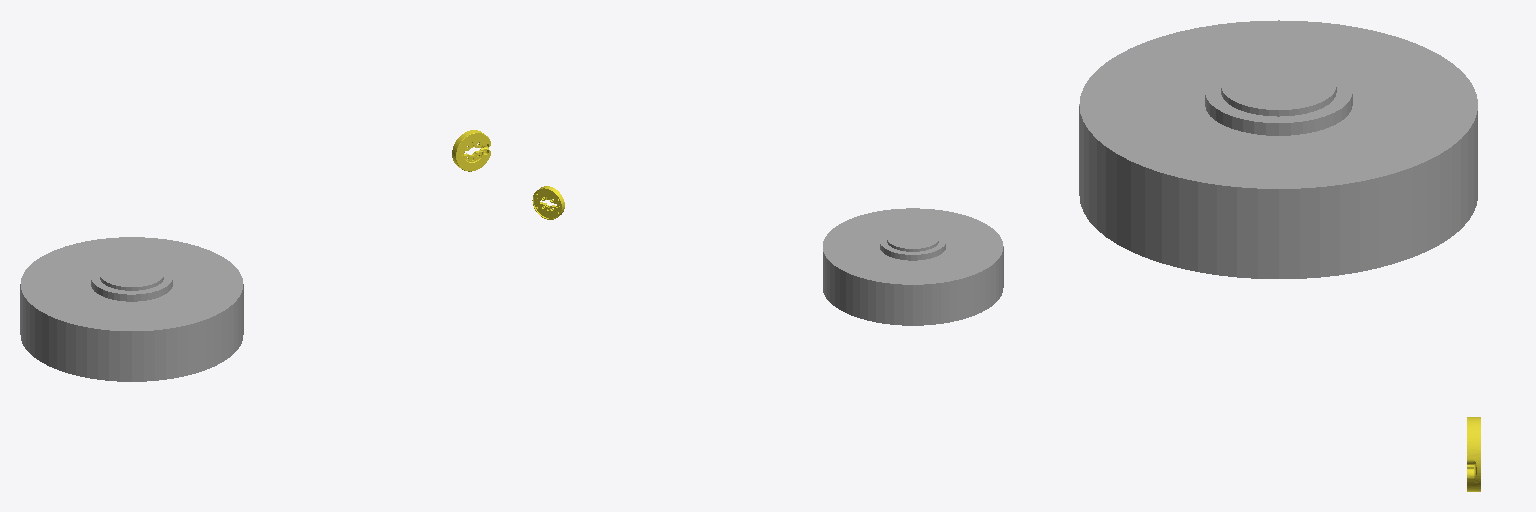
The robot description file, URDF, robot "ur5":
<?xml version="1.0" ?>
<!-- =================================================================================== -->
<!-- |    This document was autogenerated by xacro from ur5.urdf.xacro                 | -->
<!-- |    EDITING THIS FILE BY HAND IS NOT RECOMMENDED                                 | -->
<!-- =================================================================================== -->
<robot name="ur5">
  <gazebo>
    <plugin filename="libgazebo_ros_control.so" name="ros_control">
      <!--robotNamespace>/</robotNamespace-->
      <!--robotSimType>gazebo_ros_control/DefaultRobotHWSim</robotSimType-->
    </plugin>
    <!--
    <plugin name="gazebo_ros_power_monitor_controller" filename="libgazebo_ros_power_monitor.so">
      <alwaysOn>true</alwaysOn>
      <updateRate>1.0</updateRate>
      <timeout>5</timeout>
      <powerStateTopic>power_state</powerStateTopic>
      <powerStateRate>10.0</powerStateRate>
      <fullChargeCapacity>87.78</fullChargeCapacity>     
      <dischargeRate>-474</dischargeRate>
      <chargeRate>525</chargeRate>
      <dischargeVoltage>15.52</dischargeVoltage>
      <chargeVoltage>16.41</chargeVoltage>
    </plugin>
-->
  </gazebo>
  <!-- measured from model -->
  <!--property name="shoulder_height" value="0.089159" /-->
  <!--property name="shoulder_offset" value="0.13585" /-->
  <!-- shoulder_offset - elbow_offset + wrist_1_length = 0.10915 -->
  <!--property name="upper_arm_length" value="0.42500" /-->
  <!--property name="elbow_offset" value="0.1197" /-->
  <!-- CAD measured -->
  <!--property name="forearm_length" value="0.39225" /-->
  <!--property name="wrist_1_length" value="0.093" /-->
  <!-- CAD measured -->
  <!--property name="wrist_2_length" value="0.09465" /-->
  <!-- In CAD this distance is 0.930, but in the spec it is 0.09465 -->
  <!--property name="wrist_3_length" value="0.0823" /-->
  <!-- manually measured -->
  <link name="base_link">
    <visual>
      <geometry>
        <mesh filename="package://robot_description/meshes/ur5/visual/base.dae"/>
      </geometry>
      <material name="LightGrey">
        <color rgba="0.7 0.7 0.7 1.0"/>
      </material>
    </visual>
    <collision>
      <geometry>
        <mesh filename="package://robot_description/meshes/ur5/collision/base.stl"/>
      </geometry>
    </collision>
    <inertial>
      <mass value="40.0"/>
      <origin rpy="0 0 0" xyz="0.0 0.0 0.0"/>
      <inertia ixx="0.17499993000000003" ixy="0.0" ixz="0.0" iyy="0.17499993000000003" iyz="0.0" izz="0.2"/>
    </inertial>
  </link>
  <joint name="shoulder_pan_joint" type="revolute">
    <parent link="base_link"/>
    <child link="shoulder_link"/>
    <origin rpy="0.0 0.0 0.0" xyz="0.0 0.0 0.089159"/>
    <axis xyz="0 0 1"/>
    <limit effort="150.0" lower="-3.141592653589793" upper="3.141592653589793" velocity="3.15"/>
    <dynamics damping="0.0" friction="0.0"/>
  </joint>
  <link name="shoulder_link">
    <visual>
      <geometry>
        <mesh filename="package://robot_description/meshes/ur5/visual/shoulder.dae"/>
      </geometry>
      <material name="LightGrey">
        <color rgba="0.7 0.7 0.7 1.0"/>
      </material>
    </visual>
    <collision>
      <geometry>
        <mesh filename="package://robot_description/meshes/ur5/collision/shoulder.stl"/>
      </geometry>
    </collision>
    <inertial>
      <mass value="3.7"/>
      <origin rpy="0 0 0" xyz="0.0 0.0 0.0"/>
      <inertia ixx="0.010267495893" ixy="0.0" ixz="0.0" iyy="0.010267495893" iyz="0.0" izz="0.00666"/>
    </inertial>
  </link>
  <joint name="shoulder_lift_joint" type="revolute">
    <parent link="shoulder_link"/>
    <child link="upper_arm_link"/>
    <origin rpy="0.0 1.5707963267948966 0.0" xyz="0.0 0.13585 0.0"/>
    <axis xyz="0 1 0"/>
    <limit effort="150.0" lower="-3.141592653589793" upper="3.141592653589793" velocity="3.15"/>
    <dynamics damping="0.0" friction="0.0"/>
  </joint>
  <link name="upper_arm_link">
    <visual>
      <geometry>
        <mesh filename="package://robot_description/meshes/ur5/visual/upperarm.dae"/>
      </geometry>
      <material name="LightGrey">
        <color rgba="0.7 0.7 0.7 1.0"/>
      </material>
    </visual>
    <collision>
      <geometry>
        <mesh filename="package://robot_description/meshes/ur5/collision/upperarm.stl"/>
      </geometry>
    </collision>
    <inertial>
      <mass value="8.393"/>
      <origin rpy="0 0 0" xyz="0.0 0.0 0.28"/>
      <inertia ixx="0.22689067591036005" ixy="0.0" ixz="0.0" iyy="0.22689067591036005" iyz="0.0" izz="0.0151074"/>
    </inertial>
  </link>
  <joint name="elbow_joint" type="revolute">
    <parent link="upper_arm_link"/>
    <child link="forearm_link"/>
    <origin rpy="0.0 0.0 0.0" xyz="0.0 -0.1197 0.425"/>
    <axis xyz="0 1 0"/>
    <limit effort="150.0" lower="-3.141592653589793" upper="3.141592653589793" velocity="3.15"/>
    <dynamics damping="0.0" friction="0.0"/>
  </joint>
  <link name="forearm_link">
    <visual>
      <geometry>
        <mesh filename="package://robot_description/meshes/ur5/visual/forearm.dae"/>
      </geometry>
      <material name="LightGrey">
        <color rgba="0.7 0.7 0.7 1.0"/>
      </material>
    </visual>
    <collision>
      <geometry>
        <mesh filename="package://robot_description/meshes/ur5/collision/forearm.stl"/>
      </geometry>
    </collision>
    <inertial>
      <mass value="2.275"/>
      <origin rpy="0 0 0" xyz="0.0 0.0 0.25"/>
      <inertia ixx="0.04944331355599999" ixy="0.0" ixz="0.0" iyy="0.04944331355599999" iyz="0.0" izz="0.004095"/>
    </inertial>
  </link>
  <joint name="wrist_1_joint" type="revolute">
    <parent link="forearm_link"/>
    <child link="wrist_1_link"/>
    <origin rpy="0.0 1.5707963267948966 0.0" xyz="0.0 0.0 0.39225"/>
    <axis xyz="0 1 0"/>
    <limit effort="28.0" lower="-3.141592653589793" upper="3.141592653589793" velocity="3.2"/>
    <dynamics damping="0.0" friction="0.0"/>
  </joint>
  <link name="wrist_1_link">
    <visual>
      <geometry>
        <mesh filename="package://robot_description/meshes/ur5/visual/wrist1.dae"/>
      </geometry>
      <material name="LightGrey">
        <color rgba="0.7 0.7 0.7 1.0"/>
      </material>
    </visual>
    <collision>
      <geometry>
        <mesh filename="package://robot_description/meshes/ur5/collision/wrist1.stl"/>
      </geometry>
    </collision>
    <inertial>
      <mass value="1.219"/>
      <origin rpy="0 0 0" xyz="0.0 0.0 0.0"/>
      <inertia ixx="0.11117275553087999" ixy="0.0" ixz="0.0" iyy="0.11117275553087999" iyz="0.0" izz="0.21942"/>
    </inertial>
  </link>
  <joint name="wrist_2_joint" type="revolute">
    <parent link="wrist_1_link"/>
    <child link="wrist_2_link"/>
    <origin rpy="0.0 0.0 0.0" xyz="0.0 0.093 0.0"/>
    <axis xyz="0 0 1"/>
    <limit effort="28.0" lower="-3.141592653589793" upper="3.141592653589793" velocity="3.2"/>
    <dynamics damping="0.0" friction="0.0"/>
  </joint>
  <link name="wrist_2_link">
    <visual>
      <geometry>
        <mesh filename="package://robot_description/meshes/ur5/visual/wrist2.dae"/>
      </geometry>
      <material name="LightGrey">
        <color rgba="0.7 0.7 0.7 1.0"/>
      </material>
    </visual>
    <collision>
      <geometry>
        <mesh filename="package://robot_description/meshes/ur5/collision/wrist2.stl"/>
      </geometry>
    </collision>
    <inertial>
      <mass value="1.219"/>
      <origin rpy="0 0 0" xyz="0.0 0.0 0.0"/>
      <inertia ixx="0.11117275553087999" ixy="0.0" ixz="0.0" iyy="0.11117275553087999" iyz="0.0" izz="0.21942"/>
    </inertial>
  </link>
  <joint name="wrist_3_joint" type="revolute">
    <parent link="wrist_2_link"/>
    <child link="wrist_3_link"/>
    <origin rpy="0.0 0.0 0.0" xyz="0.0 0.0 0.09465"/>
    <axis xyz="0 1 0"/>
    <limit effort="28.0" lower="-3.141592653589793" upper="3.141592653589793" velocity="3.2"/>
    <dynamics damping="0.0" friction="0.0"/>
  </joint>
  <link name="wrist_3_link">
    <visual>
      <geometry>
        <mesh filename="package://robot_description/meshes/ur5/visual/wrist3.dae"/>
      </geometry>
      <material name="LightGrey">
        <color rgba="0.7 0.7 0.7 1.0"/>
      </material>
    </visual>
    <collision>
      <geometry>
        <mesh filename="package://robot_description/meshes/ur5/collision/wrist3.stl"/>
      </geometry>
    </collision>
    <inertial>
      <mass value="0.1879"/>
      <origin rpy="0 0 0" xyz="0.0 0.0 0.0"/>
      <inertia ixx="0.017136473145408" ixy="0.0" ixz="0.0" iyy="0.017136473145408" iyz="0.0" izz="0.033822"/>
    </inertial>
  </link>
  <joint name="ee_fixed_joint" type="fixed">
    <parent link="wrist_3_link"/>
    <child link="ee_link"/>
    <origin rpy="0.0 0.0 1.5707963267948966" xyz="0.0 0.0823 0.0"/>
  </joint>
  <link name="ee_link">
    <collision>
      <geometry>
        <box size="0.01 0.01 0.01"/>
      </geometry>
      <origin rpy="0 0 0" xyz="-0.01 0 0"/>
    </collision>
  </link>
  <!-- ROS base_link to UR 'Base' Coordinates transform -->
  <link name="base"/>
  <joint name="base_link-base_fixed_joint" type="fixed">
    <!-- NOTE: this rotation is only needed as long as base_link itself is
                 not corrected wrt the real robot (ie: rotated over 180
                 degrees)
      -->
    <origin rpy="0 0 -3.141592653589793" xyz="0 0 0"/>
    <parent link="base_link"/>
    <child link="base"/>
  </joint>
  <!-- Frame coincident with all-zeros TCP on UR controller -->
  <link name="tool0"/>
  <joint name="wrist_3_link-tool0_fixed_joint" type="fixed">
    <origin rpy="-1.5707963267948966 0 0" xyz="0 0.0823 0"/>
    <parent link="wrist_3_link"/>
    <child link="tool0"/>
  </joint>
  <link name="world"/>
  <joint name="world_joint" type="fixed">
    <parent link="world"/>
    <child link="base_link"/>
    <origin rpy="0.0 0.0 0.0" xyz="0.0 0.0 0.0"/>
  </joint>
  <!-- Robotiq Coupler -->
  <!--  + Height added by the coupler: 8mm -->
  <!--  + Reference frame: at the middle (4mm) -->
  <link name="robotiq_coupler">
    <visual>
      <geometry>
        <mesh filename="package://robot_description/meshes/coupler.stl"/>
      </geometry>
    </visual>
    <collision>
      <geometry>
        <mesh filename="package://robot_description/meshes/coupler.stl"/>
      </geometry>
    </collision>
    <inertial>
      <origin rpy="0 0 0" xyz="2.073e-05   1.45286e-03  -1.1049e-03"/>
      <mass value="0.168"/>
      <inertia ixx="6.69695624e-05" ixy="5.21511788e-09" ixz="-2.74383009e-08" iyy="7.85088161e-05" iyz="5.41105193e-07" izz="1.41819717e-04"/>
    </inertial>
  </link>
  <joint name="robotiq_coupler_joint" type="fixed">
    <origin rpy="0 0 -1.5707963267948966" xyz="0 0 0.004"/>
    <parent link="tool0"/>
    <child link="robotiq_coupler"/>
  </joint>
  <gazebo reference="robotiq_coupler">
    <mu1>0.9</mu1>
    <mu2>0.9</mu2>
  </gazebo>
  <!-- Equivalent to the OpenRAVE manipulator denso_robotiq_85_gripper -->
  <!-- <link name="denso_robotiq_85_gripper" /> -->
  <!-- <joint name="manipulator_dummy_joint" type="fixed"> -->
  <!--   <origin xyz="0 0 0.1441" rpy="0 0 0" /> -->
  <!--   <parent link="robotiq_coupler"/> -->
  <!--   <child link="denso_robotiq_85_gripper"/> -->
  <!-- </joint> -->
  <joint name="robotiq_85_base_joint" type="fixed">
    <parent link="robotiq_coupler"/>
    <child link="robotiq_85_base_link"/>
    <origin rpy="0 -1.5707963267948966 3.141592653589793" xyz="0 0 0.004"/>
  </joint>
  <link name="robotiq_85_base_link">
    <visual>
      <geometry>
        <mesh filename="package://robot_description/meshes/ur5/visual/robotiq_85_base_link.dae"/>
      </geometry>
    </visual>
    <collision>
      <geometry>
        <mesh filename="package://robot_description/meshes/ur5/collision/robotiq_85_base_link.stl"/>
      </geometry>
    </collision>
    <inertial>
      <mass value="0.636951"/>
      <origin xyz="0.0 0.0 0.0"/>
      <inertia ixx="0.000380" ixy="0.000000" ixz="0.000000" iyx="0.000000" iyy="0.001110" iyz="0.000000" izx="0.000000" izy="0.000000" izz="0.001171"/>
    </inertial>
  </link>
  <joint name="robotiq_85_left_knuckle_joint" type="revolute">
    <parent link="robotiq_85_base_link"/>
    <child link="robotiq_85_left_knuckle_link"/>
    <axis xyz="0 0 1"/>
    <origin rpy="3.141592653589793 0.0 0.0" xyz="0.05490451627 0.03060114443 0.0"/>
    <limit effort="1000" lower="0.0" upper="0.80285" velocity="0.5"/>
  </joint>
  <joint name="robotiq_85_right_knuckle_joint" type="continuous">
    <parent link="robotiq_85_base_link"/>
    <child link="robotiq_85_right_knuckle_link"/>
    <axis xyz="0 0 1"/>
    <origin rpy="0.0 0.0 0.0" xyz="0.05490451627 -0.03060114443 0.0"/>
    <limit effort="1000" lower="-3.14" upper="3.14" velocity="100.0"/>
    <mimic joint="robotiq_85_left_knuckle_joint"/>
  </joint>
  <link name="robotiq_85_left_knuckle_link">
    <visual>
      <geometry>
        <mesh filename="package://robot_description/meshes/ur5/visual/robotiq_85_knuckle_link.dae"/>
      </geometry>
    </visual>
    <collision>
      <geometry>
        <mesh filename="package://robot_description/meshes/ur5/collision/robotiq_85_knuckle_link.stl"/>
      </geometry>
    </collision>
    <inertial>
      <mass value="0.018491"/>
      <origin xyz="0.0 0.0 0.0"/>
      <inertia ixx="0.000009" ixy="-0.000001" ixz="0.000000" iyx="-0.000001" iyy="0.000001" iyz="0.000000" izx="0.000000" izy="0.000000" izz="0.000010"/>
    </inertial>
  </link>
  <link name="robotiq_85_right_knuckle_link">
    <visual>
      <geometry>
        <mesh filename="package://robot_description/meshes/ur5/visual/robotiq_85_knuckle_link.dae"/>
      </geometry>
    </visual>
    <collision>
      <geometry>
        <mesh filename="package://robot_description/meshes/ur5/collision/robotiq_85_knuckle_link.stl"/>
      </geometry>
    </collision>
    <inertial>
      <mass value="0.018491"/>
      <origin xyz="0.0 0.0 0.0"/>
      <inertia ixx="0.000009" ixy="-0.000001" ixz="0.000000" iyx="-0.000001" iyy="0.000001" iyz="0.000000" izx="0.000000" izy="0.000000" izz="0.000010"/>
    </inertial>
  </link>
  <joint name="robotiq_85_left_finger_joint" type="fixed">
    <parent link="robotiq_85_left_knuckle_link"/>
    <child link="robotiq_85_left_finger_link"/>
    <origin rpy="0 0 0" xyz="-0.00408552455 -0.03148604435 0.0"/>
  </joint>
  <joint name="robotiq_85_right_finger_joint" type="fixed">
    <parent link="robotiq_85_right_knuckle_link"/>
    <child link="robotiq_85_right_finger_link"/>
    <origin rpy="0 0 0" xyz="-0.00408552455 -0.03148604435 0.0"/>
  </joint>
  <link name="robotiq_85_left_finger_link">
    <visual>
      <geometry>
        <mesh filename="package://robot_description/meshes/ur5/visual/robotiq_85_finger_link.dae"/>
      </geometry>
    </visual>
    <collision>
      <geometry>
        <mesh filename="package://robot_description/meshes/ur5/collision/robotiq_85_finger_link.stl"/>
      </geometry>
    </collision>
    <inertial>
      <mass value="0.027309"/>
      <origin xyz="0.0 0.0 0.0"/>
      <inertia ixx="0.000003" ixy="-0.000002" ixz="0.000000" iyx="-0.000002" iyy="0.000021" iyz="0.000000" izx="0.000000" izy="0.000000" izz="0.000020"/>
    </inertial>
  </link>
  <link name="robotiq_85_right_finger_link">
    <visual>
      <geometry>
        <mesh filename="package://robot_description/meshes/ur5/visual/robotiq_85_finger_link.dae"/>
      </geometry>
    </visual>
    <collision>
      <geometry>
        <mesh filename="package://robot_description/meshes/ur5/collision/robotiq_85_finger_link.stl"/>
      </geometry>
    </collision>
    <inertial>
      <mass value="0.027309"/>
      <origin xyz="0.0 0.0 0.0"/>
      <inertia ixx="0.000003" ixy="-0.000002" ixz="0.000000" iyx="-0.000002" iyy="0.000021" iyz="0.000000" izx="0.000000" izy="0.000000" izz="0.000020"/>
    </inertial>
  </link>
  <joint name="robotiq_85_left_inner_knuckle_joint" type="continuous">
    <parent link="robotiq_85_base_link"/>
    <child link="robotiq_85_left_inner_knuckle_link"/>
    <axis xyz="0 0 1"/>
    <origin rpy="3.141592653589793 0.0 0.0" xyz="0.06142 0.0127 0"/>
    <limit effort="0.1" lower="-3.14" upper="3.14" velocity="100.0"/>
    <mimic joint="robotiq_85_left_knuckle_joint" offset="0"/>
  </joint>
  <joint name="robotiq_85_right_inner_knuckle_joint" type="continuous">
    <parent link="robotiq_85_base_link"/>
    <child link="robotiq_85_right_inner_knuckle_link"/>
    <axis xyz="0 0 1"/>
    <origin rpy="0 0 0" xyz="0.06142 -0.0127 0"/>
    <limit effort="0.1" lower="-3.14" upper="3.14" velocity="100.0"/>
    <mimic joint="robotiq_85_left_knuckle_joint" offset="0"/>
  </joint>
  <link name="robotiq_85_left_inner_knuckle_link">
    <visual>
      <geometry>
        <mesh filename="package://robot_description/meshes/ur5/visual/robotiq_85_inner_knuckle_link.dae"/>
      </geometry>
    </visual>
    <collision>
      <geometry>
        <mesh filename="package://robot_description/meshes/ur5/collision/robotiq_85_inner_knuckle_link.stl"/>
      </geometry>
    </collision>
    <inertial>
      <mass value="0.029951"/>
      <origin xyz="0.0 0.0 0.0"/>
      <inertia ixx="0.000039" ixy="0.000000" ixz="0.000000" iyx="0.000000" iyy="0.000005" iyz="0.000000" izx="0.000000" izy="0.000000" izz="0.000035"/>
    </inertial>
  </link>
  <link name="robotiq_85_right_inner_knuckle_link">
    <visual>
      <geometry>
        <mesh filename="package://robot_description/meshes/ur5/visual/robotiq_85_inner_knuckle_link.dae"/>
      </geometry>
    </visual>
    <collision>
      <geometry>
        <mesh filename="package://robot_description/meshes/ur5/collision/robotiq_85_inner_knuckle_link.stl"/>
      </geometry>
    </collision>
    <inertial>
      <mass value="0.029951"/>
      <origin xyz="0.0 0.0 0.0"/>
      <inertia ixx="0.000039" ixy="0.000000" ixz="0.000000" iyx="0.000000" iyy="0.000005" iyz="0.000000" izx="0.000000" izy="0.000000" izz="0.000035"/>
    </inertial>
  </link>
  <joint name="robotiq_85_left_finger_tip_joint" type="continuous">
    <parent link="robotiq_85_left_inner_knuckle_link"/>
    <child link="robotiq_85_left_finger_tip_link"/>
    <axis xyz="0 0 1"/>
    <origin rpy="0.0 0.0 0.0" xyz="0.04303959807 -0.03759940821 0.0"/>
    <limit effort="0.1" lower="-3.14" upper="3.14" velocity="100.0"/>
    <mimic joint="robotiq_85_left_knuckle_joint" multiplier="-1"/>
  </joint>
  <joint name="robotiq_85_right_finger_tip_joint" type="continuous">
    <parent link="robotiq_85_right_inner_knuckle_link"/>
    <child link="robotiq_85_right_finger_tip_link"/>
    <axis xyz="0 0 1"/>
    <origin rpy="0.0 0.0 0.0" xyz="0.04303959807 -0.03759940821  0.0"/>
    <limit effort="0.1" lower="-3.14" upper="3.14" velocity="100.0"/>
    <mimic joint="robotiq_85_left_knuckle_joint" multiplier="-1"/>
  </joint>
  <link name="robotiq_85_left_finger_tip_link">
    <visual>
      <geometry>
        <mesh filename="package://robot_description/meshes/ur5/visual/robotiq_85_finger_tip_link.dae"/>
      </geometry>
    </visual>
    <collision>
      <geometry>
        <mesh filename="package://robot_description/meshes/ur5/collision/robotiq_85_finger_tip_link.stl"/>
      </geometry>
    </collision>
    <inertial>
      <mass value="0.019555"/>
      <origin xyz="0.0 0.0 0.0"/>
      <inertia ixx="0.000002" ixy="0.000000" ixz="0.000000" iyx="0.000000" iyy="0.000005" iyz="0.000000" izx="0.000000" izy="0.000000" izz="0.000006"/>
    </inertial>
  </link>
  <link name="robotiq_85_right_finger_tip_link">
    <visual>
      <geometry>
        <mesh filename="package://robot_description/meshes/ur5/visual/robotiq_85_finger_tip_link.dae"/>
      </geometry>
    </visual>
    <collision>
      <geometry>
        <mesh filename="package://robot_description/meshes/ur5/collision/robotiq_85_finger_tip_link.stl"/>
      </geometry>
    </collision>
    <inertial>
      <mass value="0.019555"/>
      <origin xyz="0.0 0.0 0.0"/>
      <inertia ixx="0.000002" ixy="0.000000" ixz="0.000000" iyx="0.000000" iyy="0.000005" iyz="0.000000" izx="0.000000" izy="0.000000" izz="0.000006"/>
    </inertial>
  </link>
  <!-- Improve grasping physics -->
  <gazebo reference="robotiq_85_left_finger_tip_link">
    <kp>1000000.0</kp>
    <kd>1.0</kd>
    <mu1>1.0</mu1>
    <mu2>1.0</mu2>
    <minDepth>0.001</minDepth>
  </gazebo>
  <gazebo reference="robotiq_85_right_finger_tip_link">
    <kp>1000000.0</kp>
    <kd>1.0</kd>
    <mu1>1.0</mu1>
    <mu2>1.0</mu2>
    <minDepth>0.001</minDepth>
  </gazebo>
  <ros2_control name="FakeSystem" type="system">
    <hardware>
      <!-- By default, set up controllers for simulation. This won't work on real hardware -->
      <!-- plugin>mock_components/GenericSystem</plugin -->
      <plugin>topic_based_ros2_control/TopicBasedSystem</plugin>
      <param name="joint_commands_topic">/isaac_joint_commands</param>
      <param name="joint_states_topic">/isaac_joint_states</param>
    </hardware>
    <joint name="shoulder_pan_joint">
      <command_interface name="position"/>
      <state_interface name="position">
        <param name="initial_value">0</param>
      </state_interface>
      <state_interface name="velocity"/>
    </joint>
    <joint name="shoulder_lift_joint">
      <command_interface name="position"/>
      <state_interface name="position">
        <param name="initial_value">0</param>
      </state_interface>
      <state_interface name="velocity"/>
    </joint>
    <joint name="elbow_joint">
      <command_interface name="position"/>
      <state_interface name="position">
        <param name="initial_value">0</param>
      </state_interface>
      <state_interface name="velocity"/>
    </joint>
    <joint name="wrist_1_joint">
      <command_interface name="position"/>
      <state_interface name="position">
        <param name="initial_value">0</param>
      </state_interface>
      <state_interface name="velocity"/>
    </joint>
    <joint name="wrist_2_joint">
      <command_interface name="position"/>
      <state_interface name="position">
        <param name="initial_value">0</param>
      </state_interface>
      <state_interface name="velocity"/>
    </joint>
    <joint name="wrist_3_joint">
      <command_interface name="position"/>
      <state_interface name="position">
        <param name="initial_value">0</param>
      </state_interface>
      <state_interface name="velocity"/>
    </joint>
    <joint name="robotiq_85_left_knuckle_joint">
      <command_interface name="position"/>
      <state_interface name="position">
        <param name="initial_value">0</param>
      </state_interface>
      <state_interface name="velocity"/>
    </joint>
  </ros2_control>
</robot>

--- What the picture shows (computed from the rendered views, not written in the file) ---
The picture shows the robot from 3 angles, left to right: view 1: azimuth 30°, elevation 25°; view 2: azimuth 150°, elevation 25°; view 3: azimuth 270°, elevation 25°; orthographic projection.
Robot: ur5 — 21 links, 20 joints (7 revolute, 5 continuous, 8 fixed); root link world; default pose: all joints at 0.
Visible links, largest first — view 1: base_link, robotiq_coupler; view 2: base_link, robotiq_coupler; view 3: base_link, robotiq_coupler.
Link boxes in pixels (x1=…): base_link: x1=20, y1=237, x2=243, y2=381; robotiq_coupler: x1=452, y1=130, x2=490, y2=171; base_link: x1=823, y1=208, x2=1003, y2=325; robotiq_coupler: x1=532, y1=186, x2=564, y2=219; base_link: x1=1079, y1=20, x2=1477, y2=278; robotiq_coupler: x1=1467, y1=417, x2=1480, y2=491.
Bounding box of the posed robot: 1.05 × 0.4024 × 0.132 m (x, y, z).
Meshes: 13 distinct files referenced, 2 mesh visuals loaded (1 binary STL, 1 Collada DAE); not drawn: 15 (reference not matched to a file when rendering).